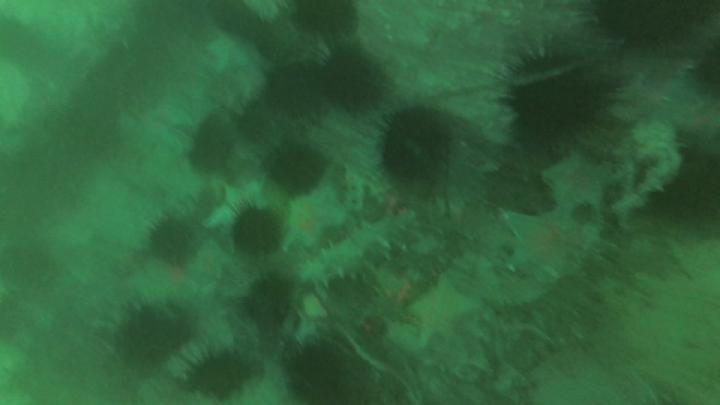echinus: (512, 62, 596, 142), (383, 110, 450, 179), (606, 3, 705, 46), (115, 313, 178, 368), (321, 56, 385, 108), (292, 351, 351, 404), (265, 68, 321, 119), (182, 355, 244, 395), (296, 3, 359, 41), (270, 146, 323, 191), (147, 220, 199, 264), (234, 211, 284, 255), (192, 120, 234, 172), (249, 278, 289, 322), (239, 106, 278, 139)
holothurian: (302, 212, 414, 289)
starfish: (500, 204, 602, 278), (410, 280, 477, 347), (543, 155, 621, 210), (281, 184, 346, 240)
